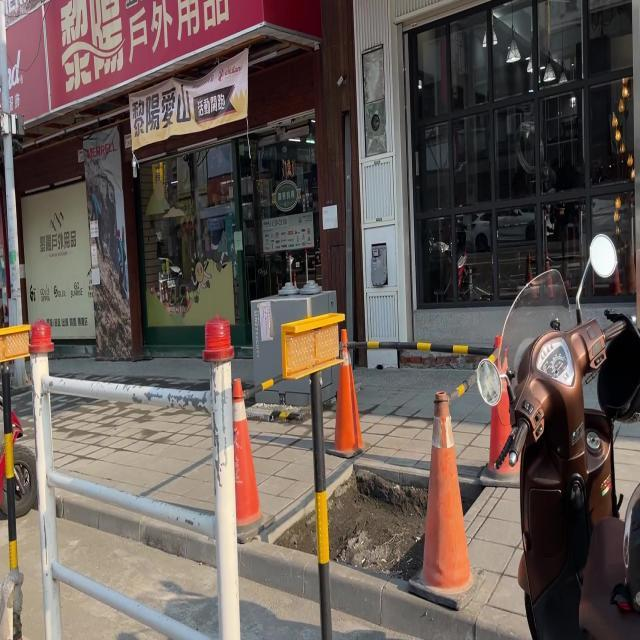bike: (474, 233, 640, 640), (432, 242, 493, 303)
car: (0, 361, 37, 525), (467, 205, 555, 253)
traffic cone: (408, 389, 476, 609), (326, 330, 369, 458), (230, 377, 262, 529)
